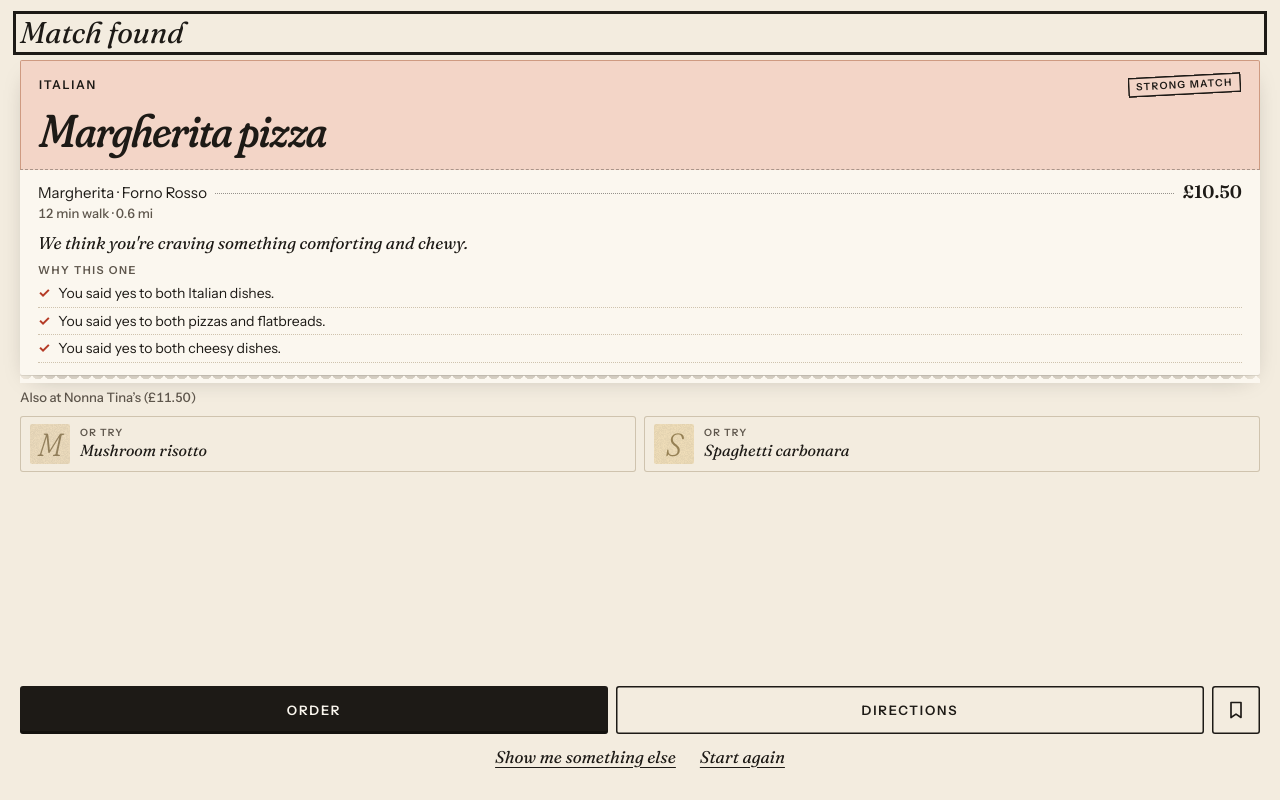
Test: MatchScreen › outside pick-list sessions the approved runner-up copy is unchanged
Click the button with class "alt-tile" showing "M Or try Mushroom risotto": (50, 444) [20, 416, 636, 472]
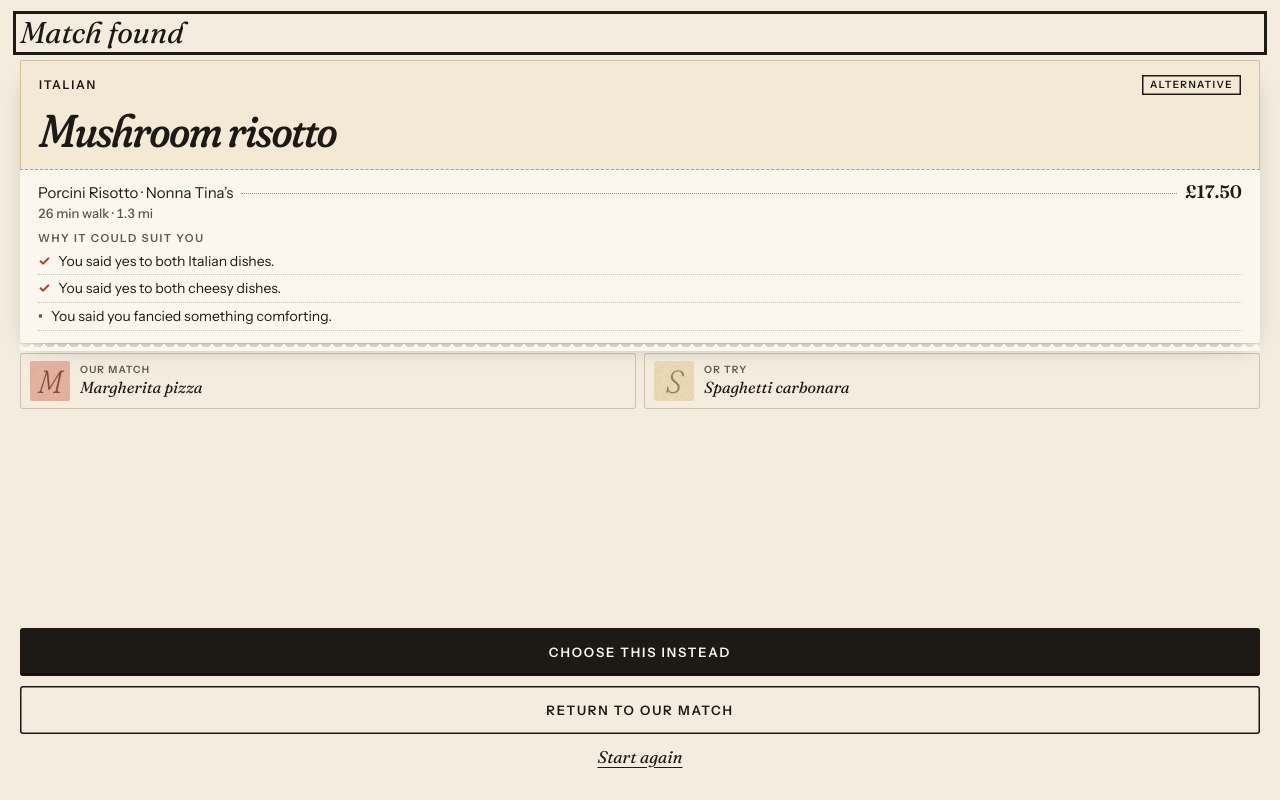
Result: the button "Return to our match" is shown at [20, 686, 1260, 734]
